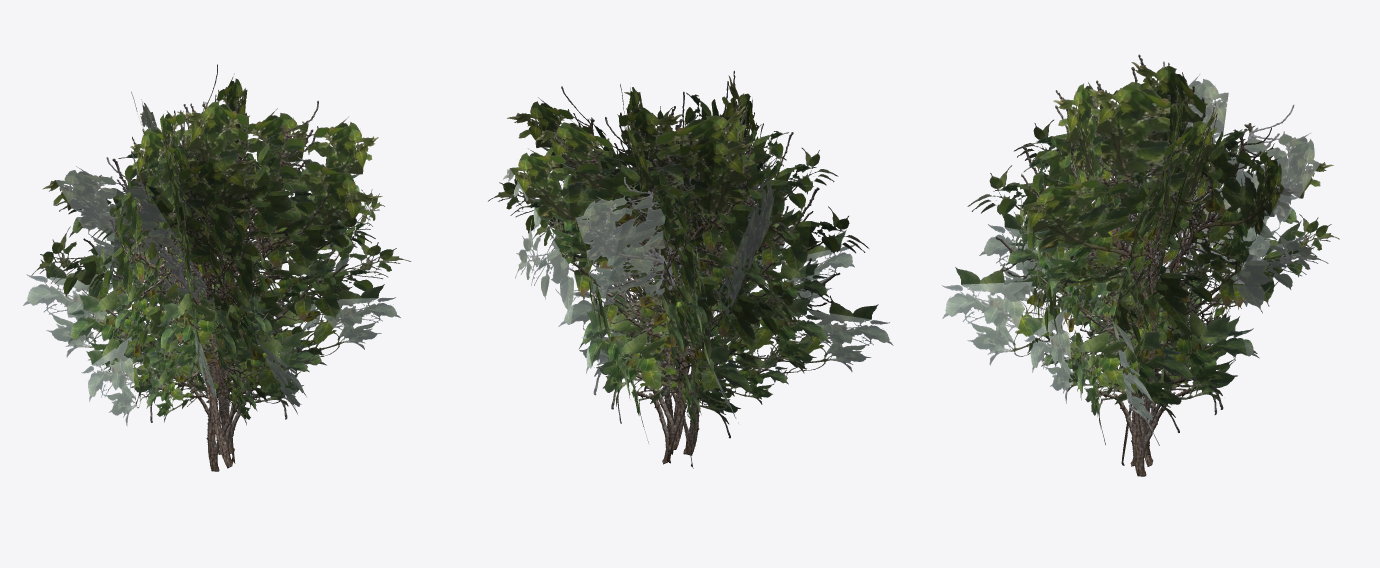
The model's file is Bush_Winter.fbx.
The picture shows the model from 3 angles, left to right: view 1: azimuth 30°, elevation 25°; view 2: azimuth 150°, elevation 25°; view 3: azimuth 270°, elevation 25°; orthographic projection. The views are drawn at different scales.
Visible parts, largest first — view 1: Bush_Winter_LOD0; view 2: Bush_Winter_LOD0; view 3: Bush_Winter_LOD0.
Boxes of the visible parts, <box> form: Bush_Winter_LOD0: <box>23,64,411,471</box>; Bush_Winter_LOD0: <box>488,70,893,468</box>; Bush_Winter_LOD0: <box>942,54,1339,476</box>.
Bounding box in the file's own units: 1.78 × 1.8 × 1.74.
